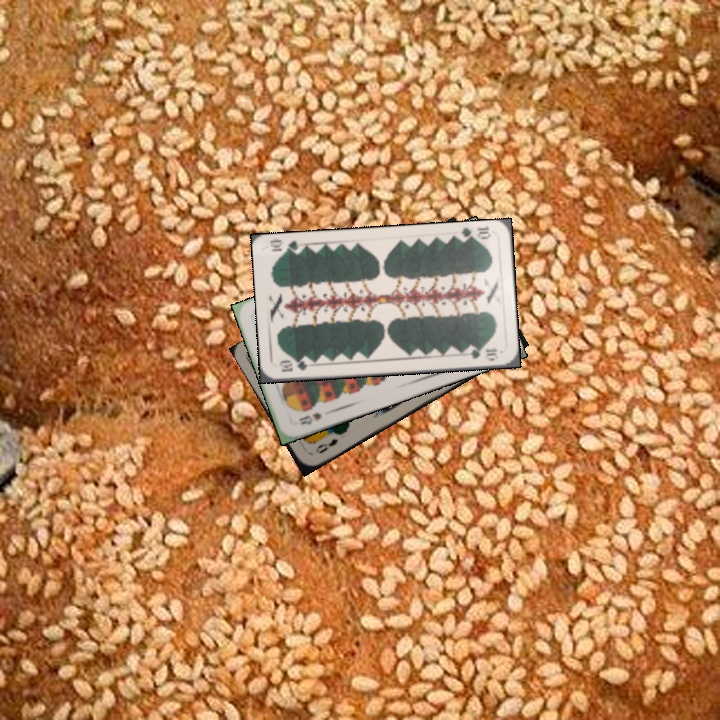EO: (311, 434, 341, 456)
G10: (455, 223, 493, 244), (275, 355, 315, 374)
S8: (295, 408, 324, 427)
